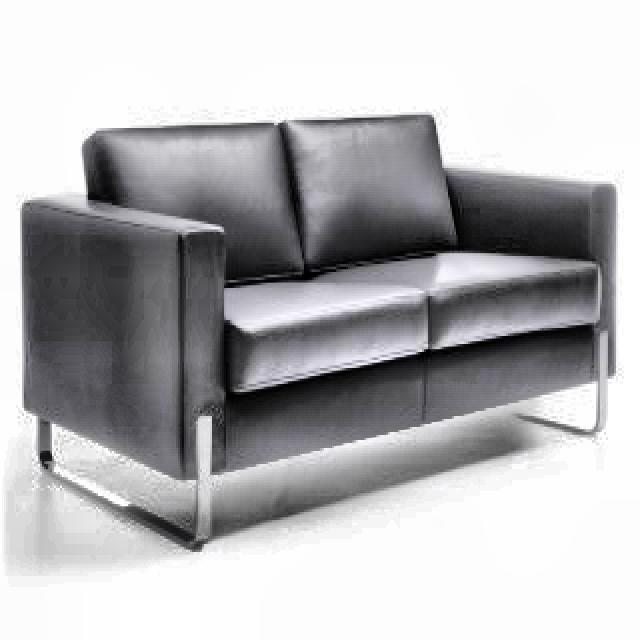sofa: (20, 110, 618, 550)
